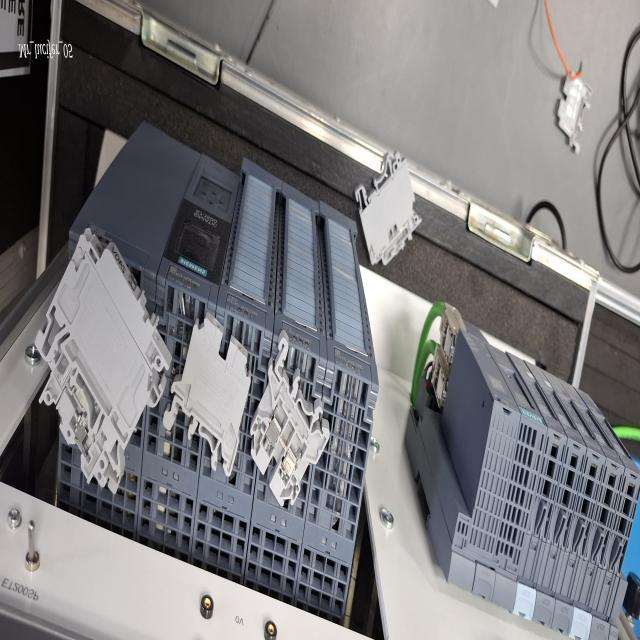Inverted: (163, 288, 257, 477)
Pass: (248, 352, 338, 504)
